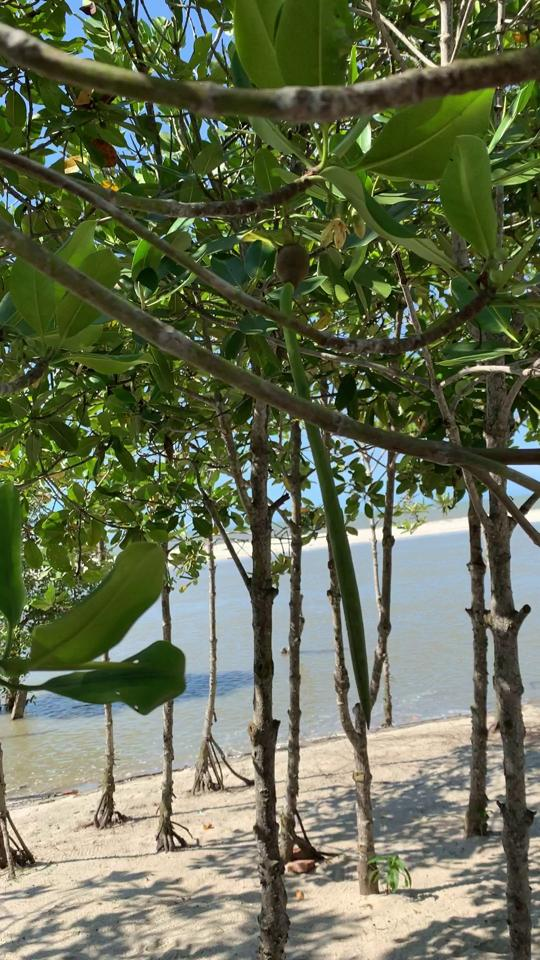setengah matang: (237, 225, 383, 734)
